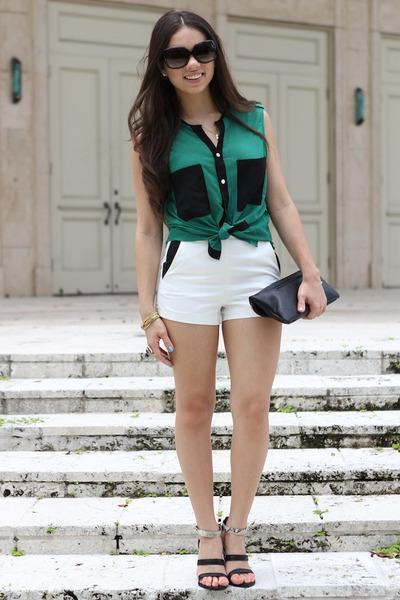Shorts: (154, 230, 287, 327)
short sleeve shirt: (154, 100, 274, 247)
